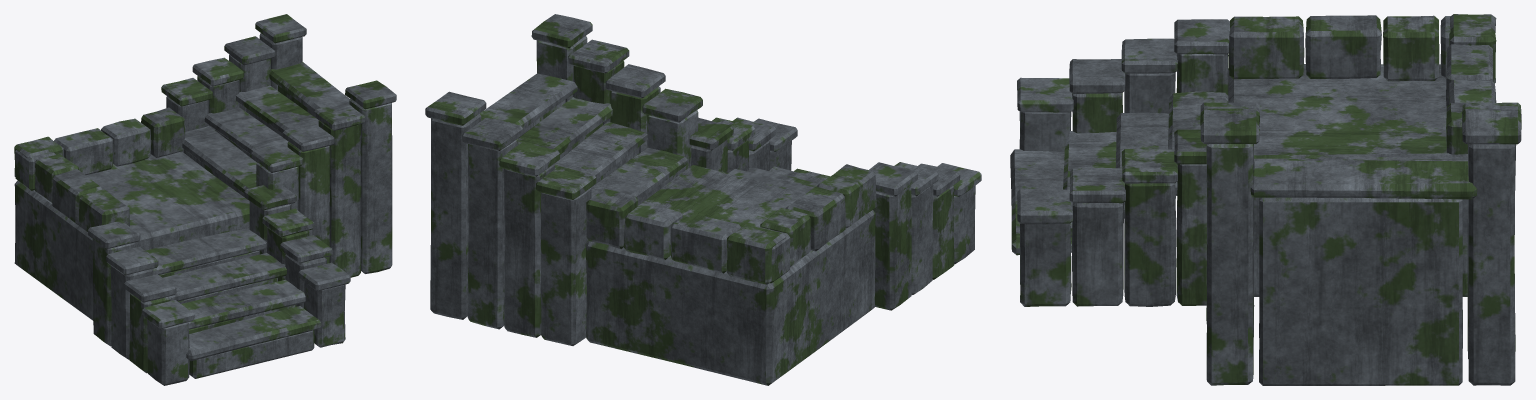
File: Bell_Stair_Turn.glb
3 views of the same model, side by side, from view 1: azimuth 30°, elevation 25°; view 2: azimuth 150°, elevation 25°; view 3: azimuth 270°, elevation 25° (orthographic). The views are drawn at different scales.
Visible parts, largest first — view 1: Bell_Stair_Turn__Stone; view 2: Bell_Stair_Turn__Stone; view 3: Bell_Stair_Turn__Stone.
Boxes of the visible parts, <box> form: Bell_Stair_Turn__Stone: <box>14,14,396,385</box>; Bell_Stair_Turn__Stone: <box>425,14,981,385</box>; Bell_Stair_Turn__Stone: <box>1010,14,1521,385</box>.
Bounding box in the file's own units: 16.44 × 9.23 × 16.62.
Materials: 1 (1 with a texture image).
